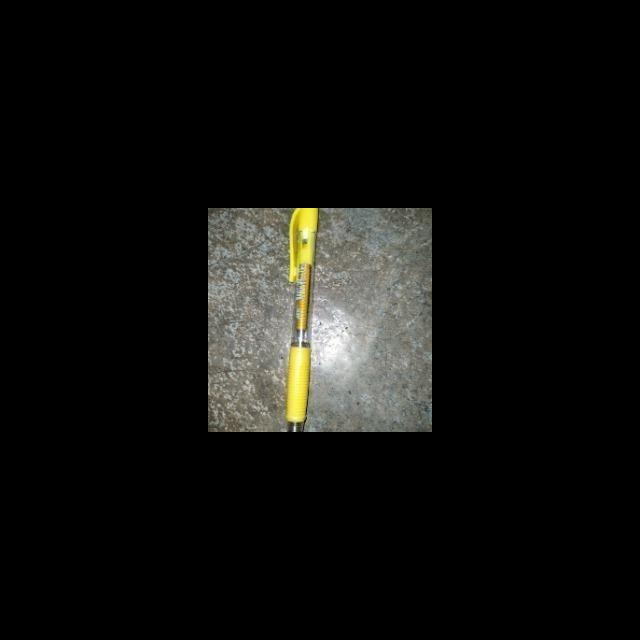plastic: (286, 208, 319, 432)
